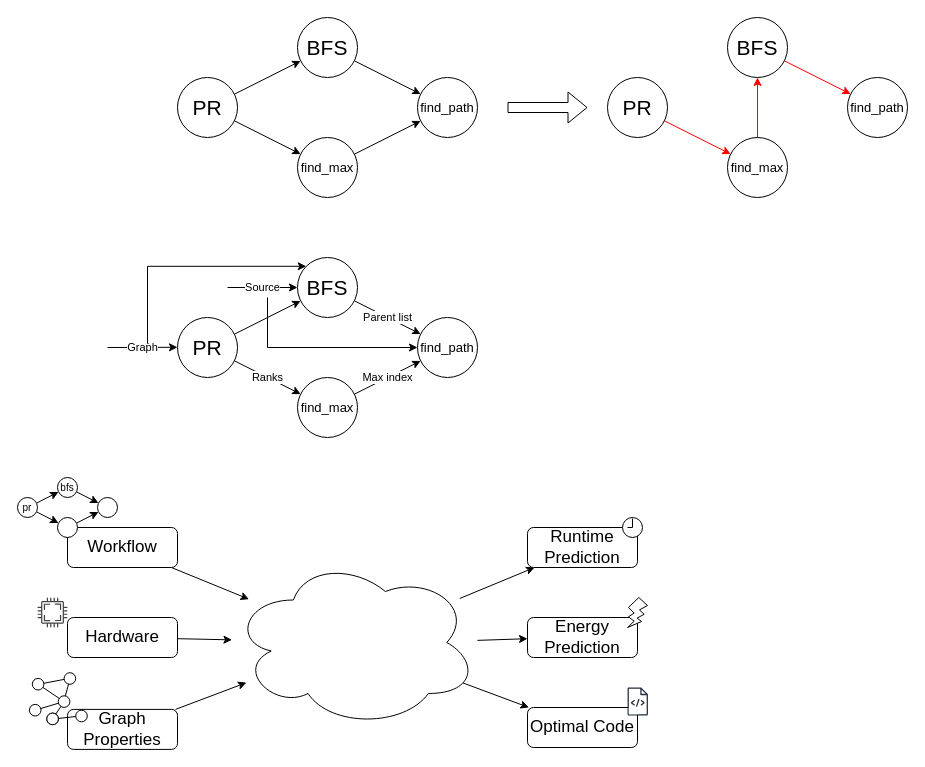
Image size: 925x767. Some labels were removed from this diagram. Here are the shapes that lost their labels. From the top down, the centre of each, then its label:
At point 67,527: "fm".
At point 107,507: "fp".
At point 354,642: "Graph-Optimizer".
